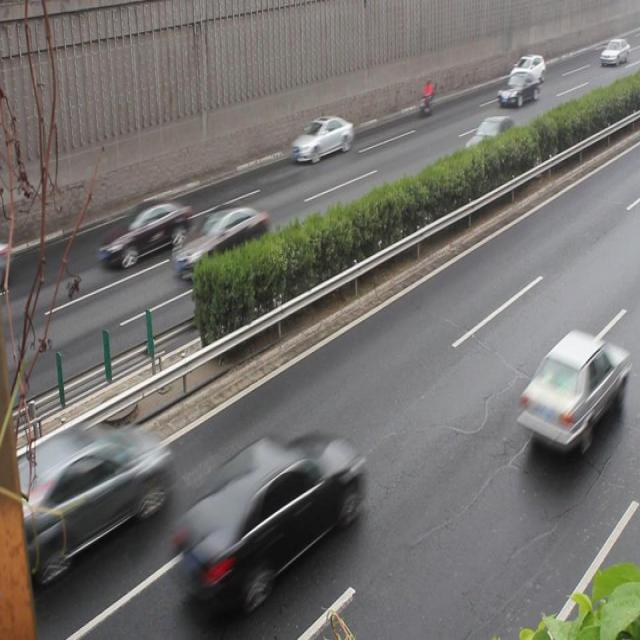car: (170, 431, 363, 594), (16, 419, 168, 575), (520, 330, 630, 445), (100, 194, 192, 268), (175, 208, 269, 272), (290, 115, 353, 165), (466, 117, 519, 163), (495, 70, 540, 108), (509, 53, 544, 86)
